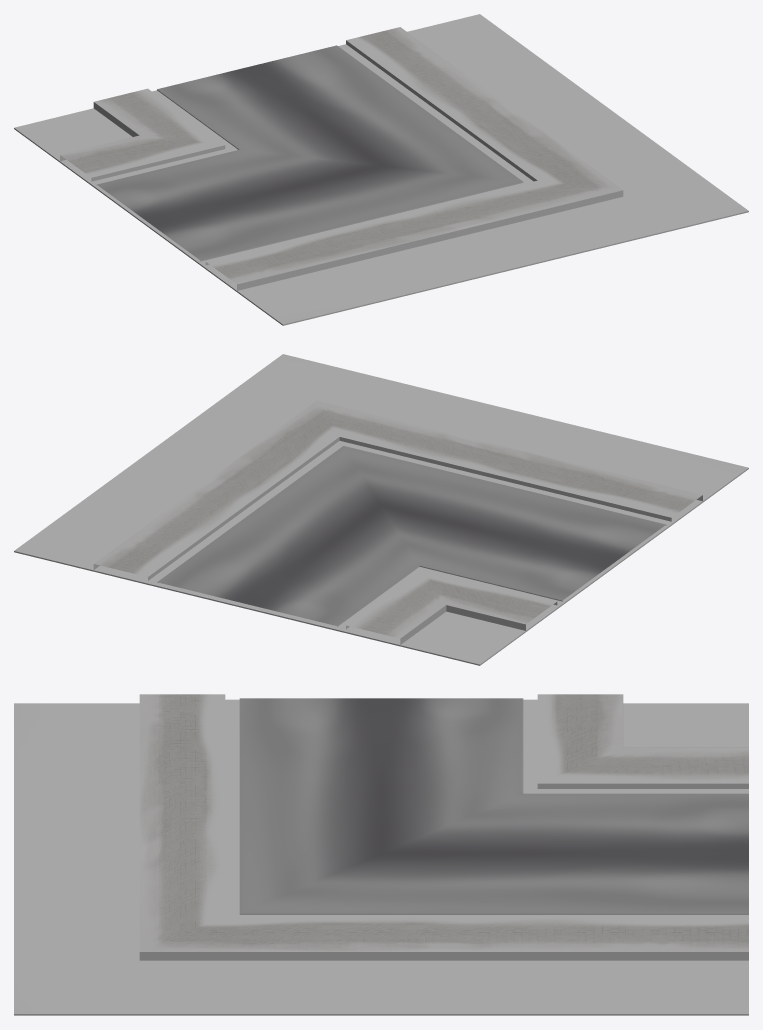
Rendered from Flat_Turn.fbx.
3 views of the same model, one above another, from view 1: azimuth 30°, elevation 25°; view 2: azimuth 150°, elevation 25°; view 3: azimuth 270°, elevation 25° (orthographic). The views are drawn at different scales.
Visible parts, largest first — view 1: Road_10X36, Road_10X67; view 2: Road_10X36, Road_10X67; view 3: Road_10X36, Road_10X67.
Boxes of the visible parts, x1,y1,x2,y2 form: Road_10X36: [60, 27, 623, 290]; Road_10X67: [14, 14, 748, 325]; Road_10X36: [93, 400, 702, 644]; Road_10X67: [14, 354, 748, 665]; Road_10X36: [139, 694, 748, 960]; Road_10X67: [14, 703, 748, 1015].
Bounding box in the file's own units: 1000 × 15.99 × 1000.
